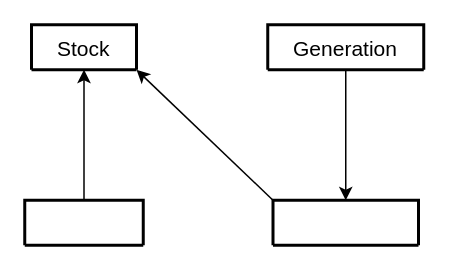
The diagram is 449 pixels wide and 270 high, and some of its shapes have lost their labels. The box of each missing label's shape, as (x1, y1, x2, y2) in pixels:
History: (22, 198, 144, 246)
Prediction: (271, 198, 419, 246)
